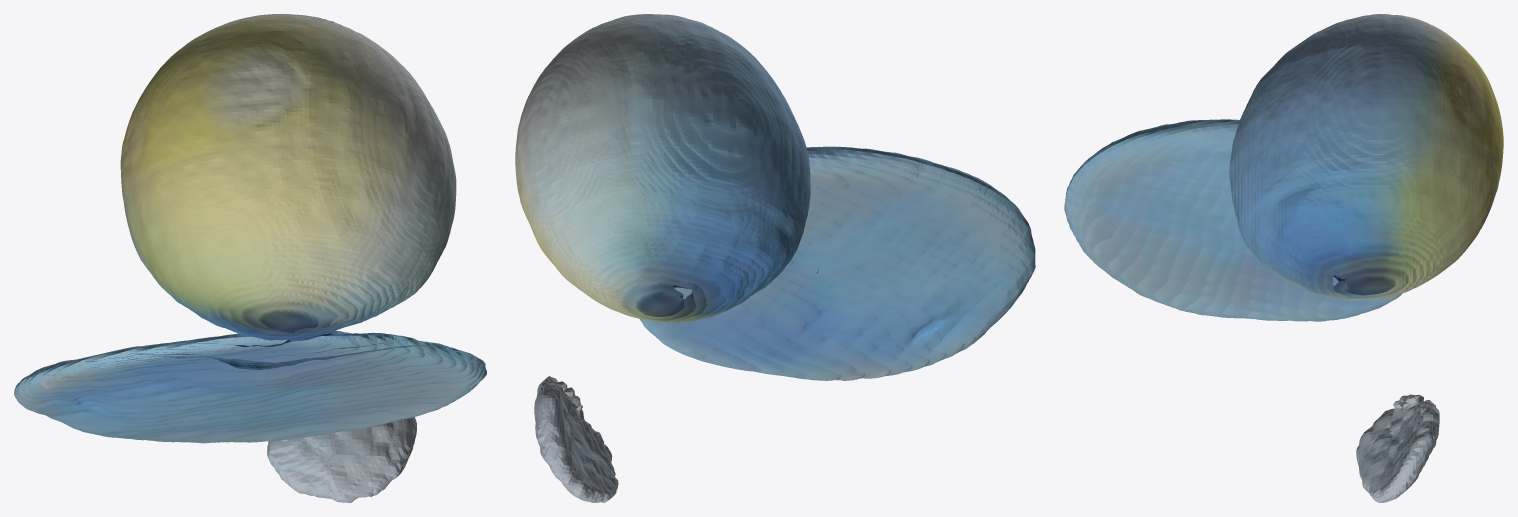
3 views of the same model, side by side, from view 1: azimuth 30°, elevation 25°; view 2: azimuth 150°, elevation 25°; view 3: azimuth 270°, elevation 25° (orthographic). The views are drawn at different scales.
Parts seen in each view (by area): view 1: geometry_0; view 2: geometry_0; view 3: geometry_0.
Boxes of the visible parts, <box> form: geometry_0: <box>14,14,486,502</box>; geometry_0: <box>515,14,1035,502</box>; geometry_0: <box>1064,14,1503,502</box>.
Bounding box in the file's own units: 1.49 × 1.6 × 1.45.
